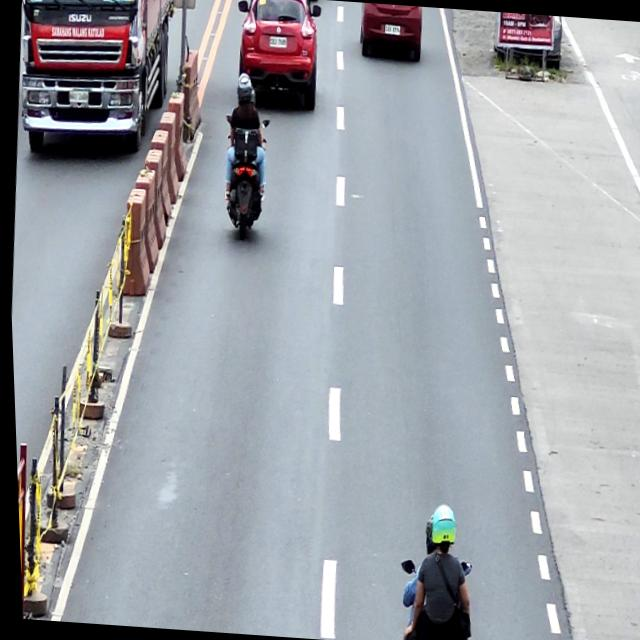Car: (230, 0, 324, 110), (357, 2, 423, 63)
License-Plate: (68, 89, 88, 104), (268, 36, 287, 48), (383, 23, 401, 34)
Motorcycle: (216, 114, 272, 243)
Truck: (11, 0, 179, 163)
